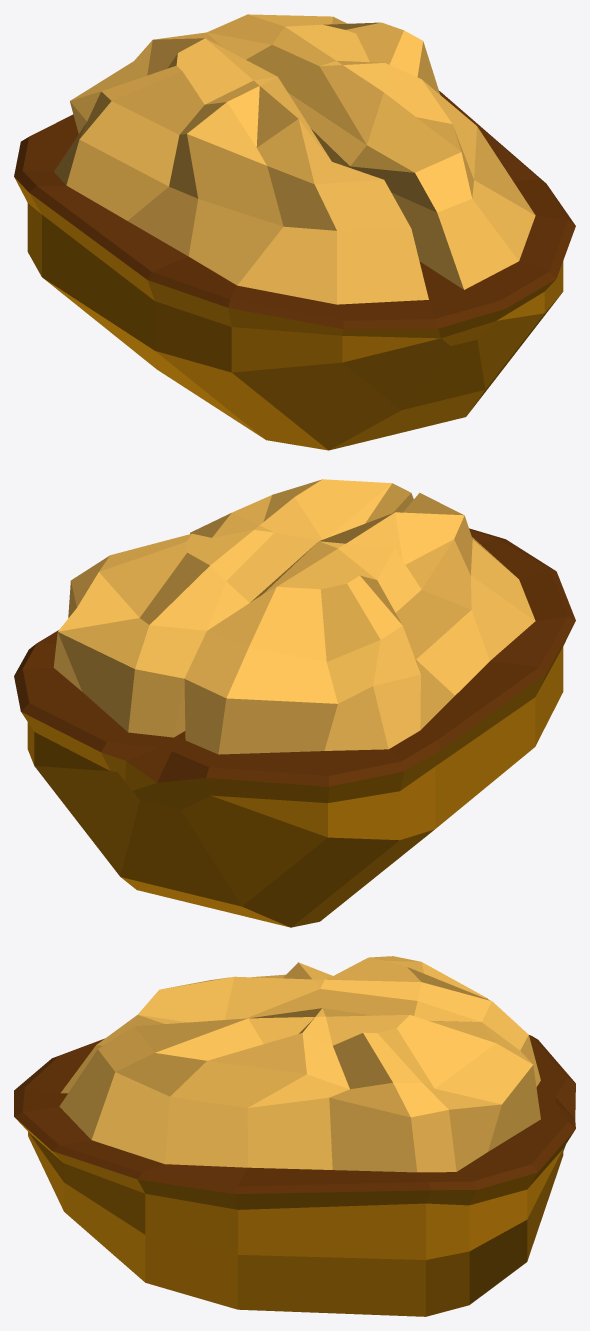
The model's file is walnut02.obj.
3 renders of one model, top to bottom at view 1: azimuth 30°, elevation 25°; view 2: azimuth 150°, elevation 25°; view 3: azimuth 270°, elevation 25°, orthographic. The views are drawn at different scales.
Visible parts, largest first — view 1: Cylinder.001; view 2: Cylinder.001; view 3: Cylinder.001.
Part boxes in pixels (x1,y1,x2,y2): Cylinder.001: (14,14,575,450); Cylinder.001: (14,479,575,927); Cylinder.001: (14,956,575,1316).
Size of the model in its own units: 0.0325 by 0.0244 by 0.0434.
1 material, 1 textured.
